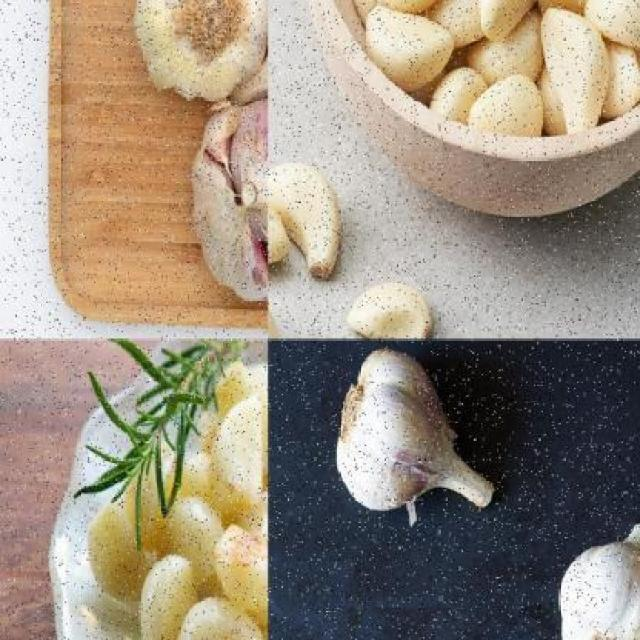garlic: (338, 0, 639, 142), (334, 342, 498, 524), (188, 97, 268, 306), (131, 0, 267, 108), (536, 8, 614, 136), (556, 519, 639, 639), (268, 157, 344, 280), (361, 2, 459, 97), (201, 391, 267, 502), (156, 498, 229, 596), (346, 280, 436, 338), (469, 74, 548, 138)
